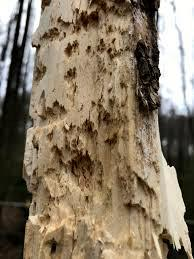Mammals Attack: (38, 0, 175, 259)
